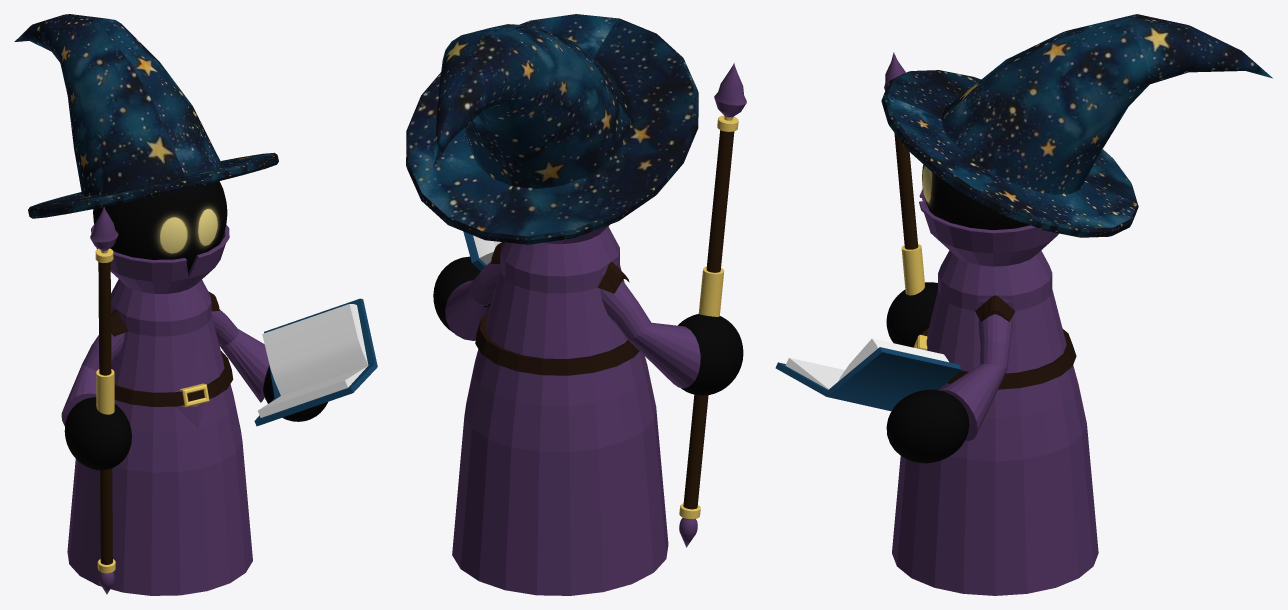
The model's file is enemy_wizard.fbx.
The picture shows the model from 3 angles, left to right: view 1: azimuth 30°, elevation 25°; view 2: azimuth 150°, elevation 25°; view 3: azimuth 270°, elevation 25°; orthographic projection. The views are drawn at different scales.
Visible parts, largest first — view 1: clothes, hat, body, book, thing_magic; view 2: clothes, hat, thing_magic, body, book; view 3: clothes, hat, body, book, thing_magic.
Part boxes in pixels (x1,y1,x2,y2): clothes: [61, 224, 269, 595]; hat: [14, 14, 278, 218]; body: [64, 181, 327, 470]; book: [254, 298, 377, 426]; thing_magic: [90, 207, 118, 594]; clothes: [445, 224, 700, 595]; hat: [406, 14, 698, 244]; thing_magic: [679, 63, 746, 547]; body: [433, 256, 743, 395]; book: [463, 231, 501, 270]; clothes: [892, 189, 1098, 595]; hat: [881, 14, 1272, 237]; body: [886, 164, 1029, 463]; book: [775, 338, 961, 411]; thing_magic: [884, 52, 924, 295].
Size of the model in its own units: 6.94 by 11.95 by 10.09.
